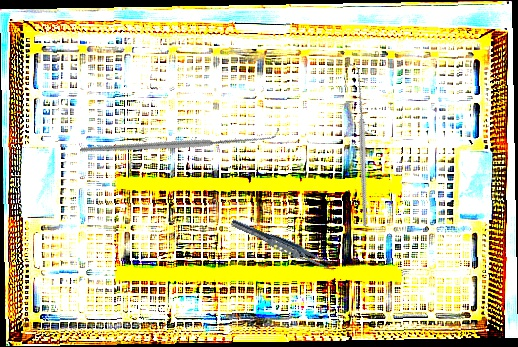Hook Surgical: (79, 52, 280, 228), (286, 63, 431, 228)
Tissue Forceps: (228, 216, 339, 275)
